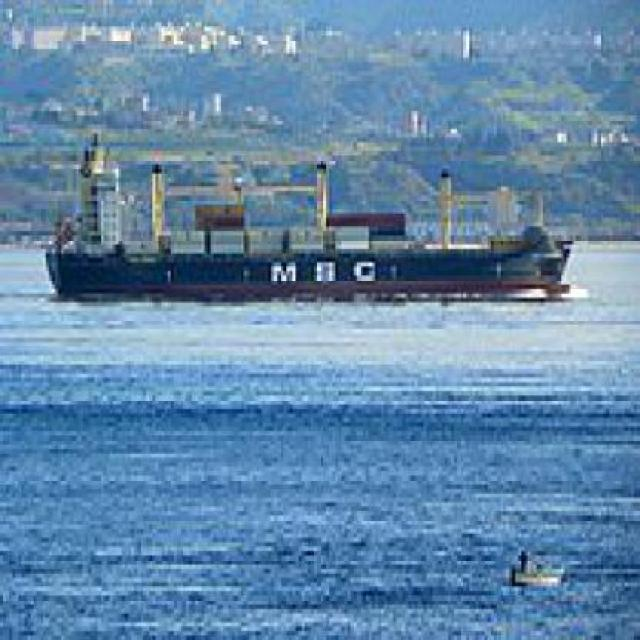container: (37, 196, 580, 312)
